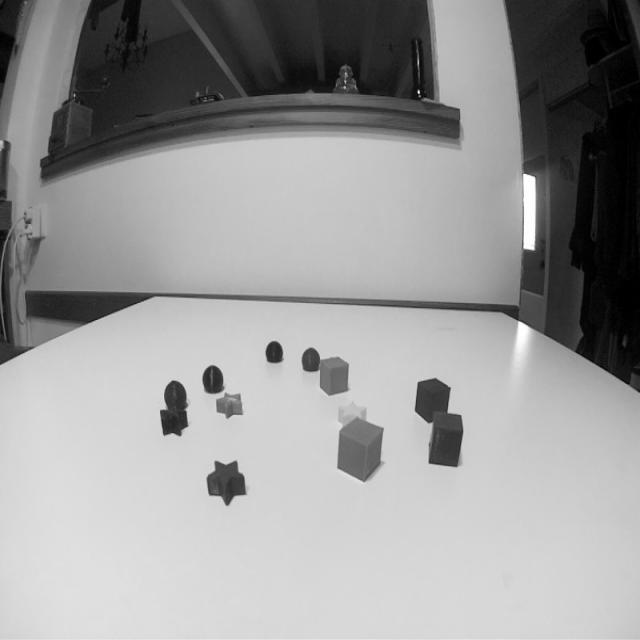ball: (199, 362, 226, 398), (161, 378, 190, 411), (300, 345, 322, 376), (267, 340, 283, 364)
cube: (332, 415, 387, 491), (413, 372, 454, 428), (427, 408, 465, 467), (319, 353, 351, 398)
star: (200, 458, 252, 505), (333, 398, 374, 430), (155, 402, 190, 438), (213, 388, 247, 423)
